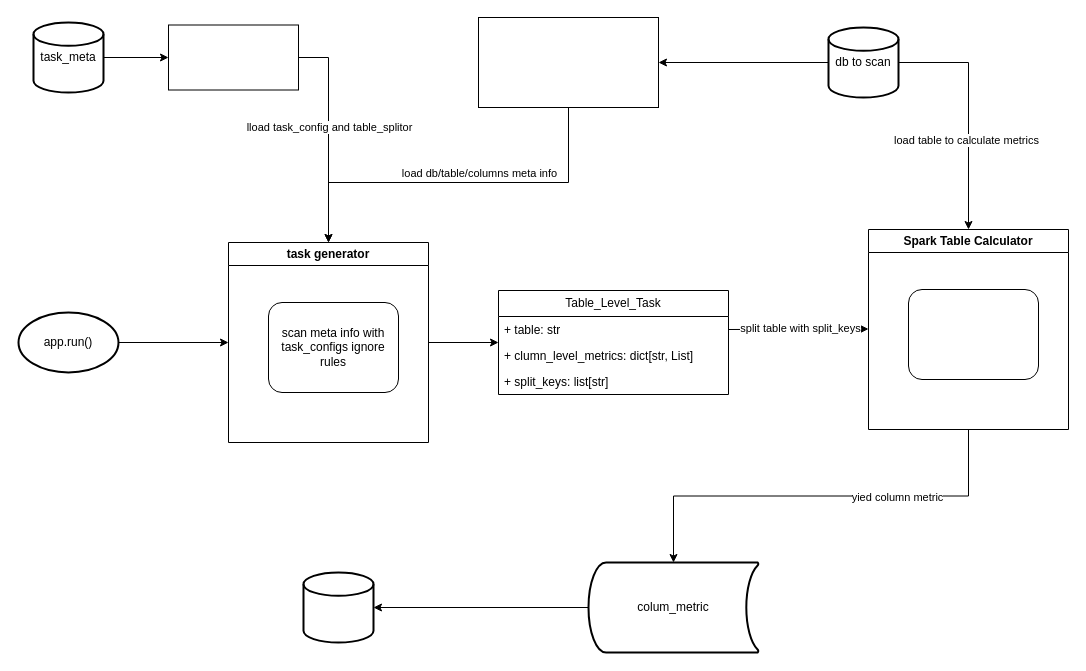
The diagram is 1086 pixels wide and 671 high, and some of its shapes have lost their labels. Each missing label, with the box of its shape:
load one table data in to cluster memory and calculate column metrics: (908, 288, 1038, 380)
task_result: (302, 571, 374, 643)
«ScanMetaLoader» Component: (478, 16, 658, 108)
«TaskConfigLoader» Component: (168, 24, 298, 90)
